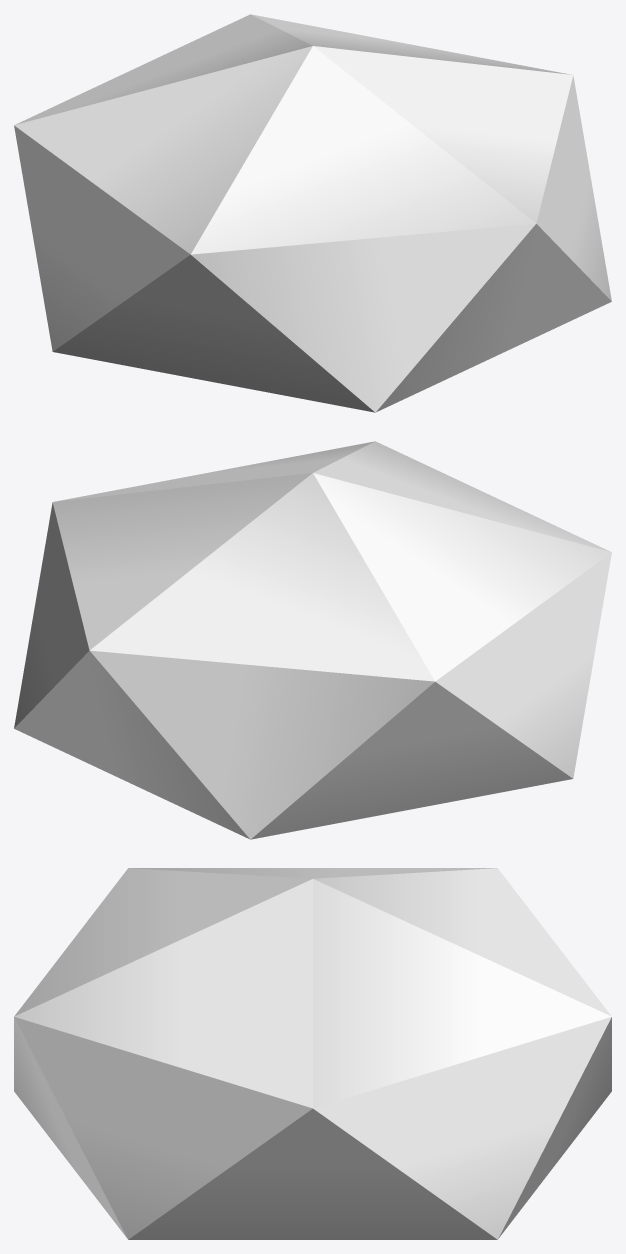
The model's file is snow_mound.fbx.
3 renders of one model, top to bottom at view 1: azimuth 30°, elevation 25°; view 2: azimuth 150°, elevation 25°; view 3: azimuth 270°, elevation 25°, orthographic. The views are drawn at different scales.
Parts seen in each view (by area): view 1: snow_mound; view 2: snow_mound; view 3: snow_mound.
Boxes of the visible parts, box(x1,y1,x2,y2) form: snow_mound: box(14, 14, 611, 412); snow_mound: box(14, 441, 611, 839); snow_mound: box(14, 868, 611, 1239).
Bounding box in the file's own units: 480 × 295 × 457.
